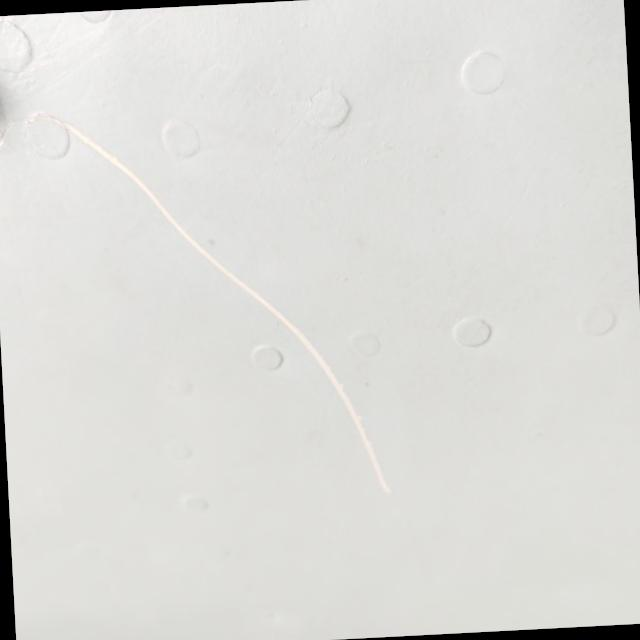scratch: (12, 80, 418, 530)
